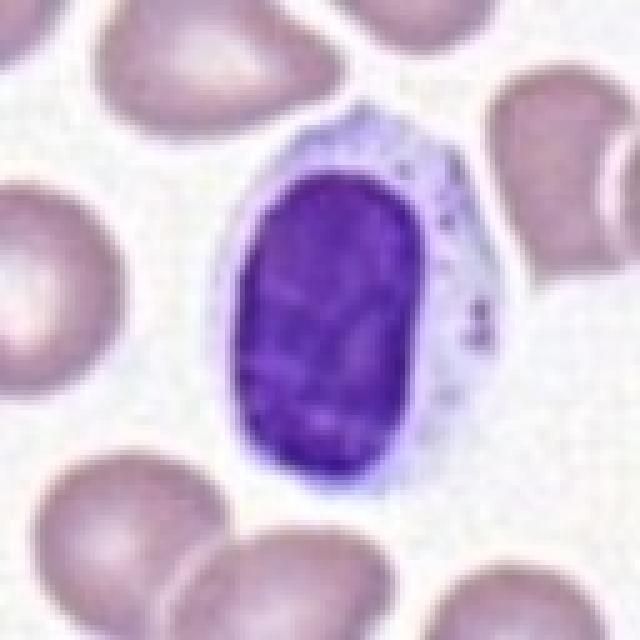lympho: (198, 90, 510, 507)
